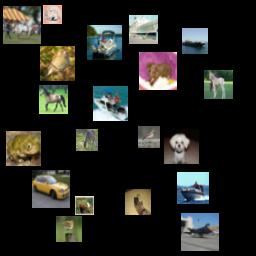airplane: (181, 213, 219, 251)
automobile: (32, 170, 70, 208)
bird: (40, 46, 75, 81), (56, 216, 82, 242), (138, 126, 160, 148)
cat: (125, 189, 151, 215), (43, 5, 62, 24)
deer: (76, 129, 98, 151), (75, 196, 94, 215)
dog: (139, 52, 177, 90), (164, 129, 199, 164)
frog: (6, 131, 41, 166)
ship: (87, 25, 122, 60), (93, 86, 128, 121), (177, 172, 209, 204), (129, 15, 158, 44), (182, 28, 208, 54)
